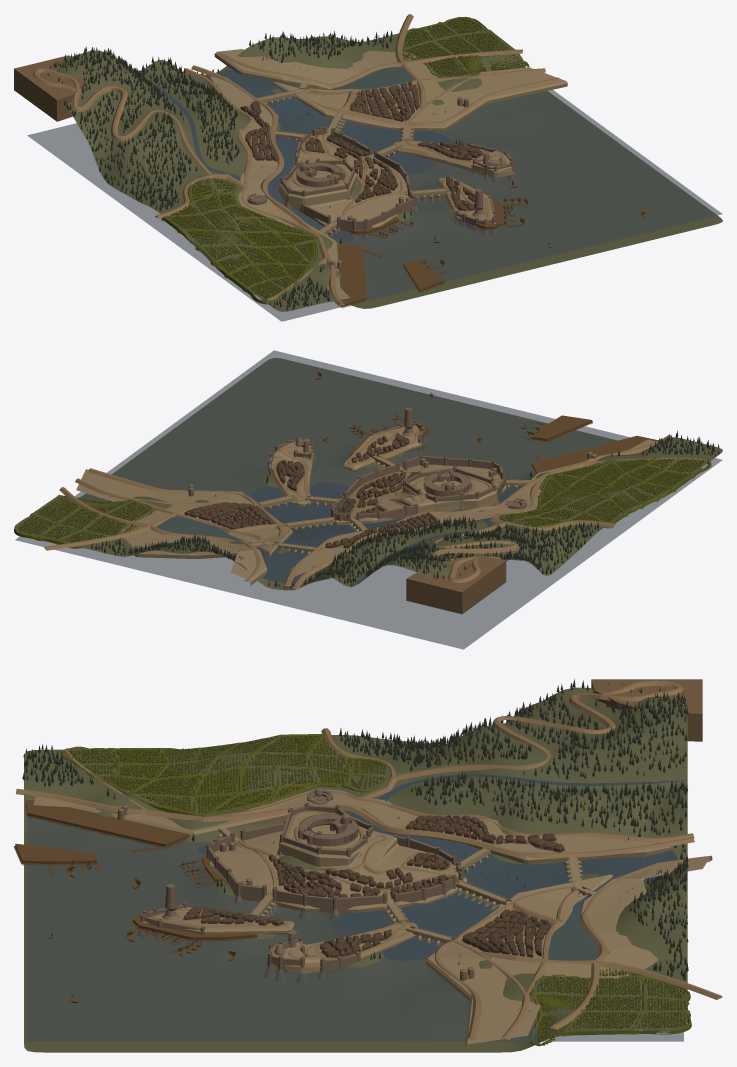
File: city_view-transformed.glb
3 renders of one model, top to bottom at view 1: azimuth 30°, elevation 25°; view 2: azimuth 150°, elevation 25°; view 3: azimuth 270°, elevation 25°, orthographic. The views are drawn at different scales.
Visible parts, largest first — view 1: terrain, ocean, city_foundation, fields, roads, trees, river, houses, walls, harbors, mine, bridges (+2 smaller); view 2: ocean, terrain, city_foundation, fields, roads, trees, houses, river, walls, mine, harbors, bridges (+2 smaller); view 3: terrain, ocean, city_foundation, fields, roads, trees, river, houses, walls, harbors, bridges, mine (+2 smaller).
Boxes of the visible parts, box(x1,y1,x2,y2) form: terrain: box(56, 18, 722, 311); ocean: box(27, 89, 722, 321); city_foundation: box(207, 49, 567, 299); fields: box(161, 16, 529, 304); roads: box(32, 14, 560, 305); trees: box(40, 30, 493, 310); river: box(141, 70, 451, 242); houses: box(240, 81, 482, 211); walls: box(278, 126, 516, 241); harbors: box(337, 186, 528, 308); mine: box(14, 55, 84, 121); bridges: box(252, 83, 450, 235); ocean: box(15, 350, 721, 649); terrain: box(16, 358, 722, 590); city_foundation: box(76, 425, 655, 585); fields: box(14, 456, 711, 548); roads: box(44, 427, 707, 589); trees: box(91, 431, 719, 588); houses: box(184, 433, 438, 548); river: box(248, 477, 522, 584); walls: box(268, 420, 506, 524); mine: box(406, 556, 506, 614); harbors: box(349, 415, 657, 474); bridges: box(250, 454, 530, 554); terrain: box(24, 687, 687, 1052); ocean: box(27, 817, 683, 1041); city_foundation: box(33, 789, 712, 1050); fields: box(61, 733, 691, 1046); roads: box(16, 680, 722, 1039); trees: box(22, 679, 688, 1011); river: box(198, 774, 685, 960); houses: box(183, 815, 565, 958); walls: box(138, 802, 464, 983); harbors: box(14, 800, 257, 952); bridges: box(218, 827, 596, 945); mine: box(591, 679, 702, 741).
Bounding box in the file's own units: 22.44 × 4.1 × 22.98.
